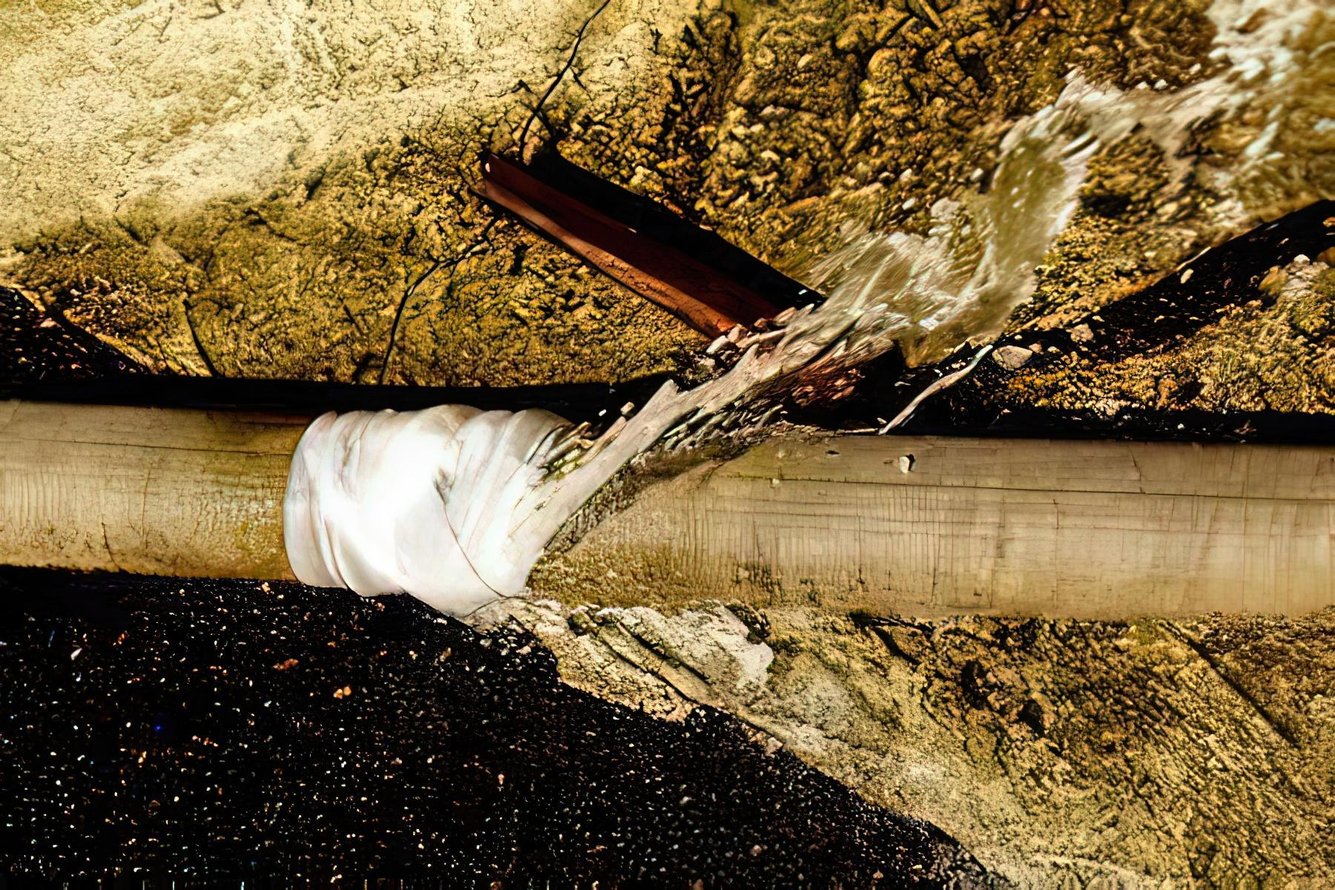pipe burst: (484, 0, 1335, 568)
